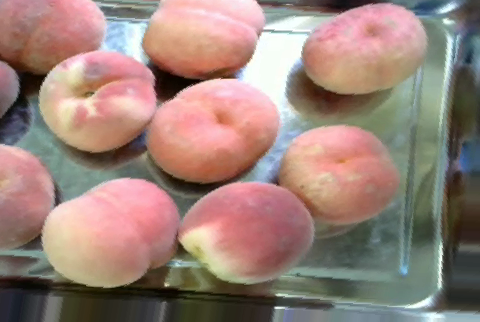Peach: (145, 77, 281, 184), (46, 178, 178, 285), (179, 182, 314, 283), (279, 124, 399, 227), (40, 48, 156, 152), (301, 3, 425, 93), (142, 0, 261, 79), (2, 0, 104, 74)
